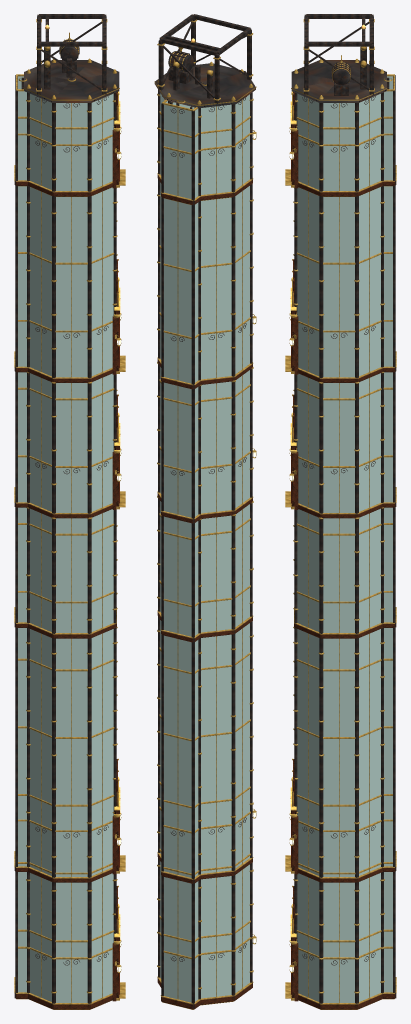
Rendered from sp_lift_shaft.glb.
The picture shows the model from 3 angles, left to right: view 1: azimuth 90°, elevation 25°; view 2: azimuth 150°, elevation 25°; view 3: azimuth 270°, elevation 25°; orthographic projection.
Visible parts, largest first — view 1: spire; view 2: spire; view 3: spire.
Boxes of the visible parts, x1,y1,x2,y2 form: spire: (14,14,125,1009); spire: (154,14,256,1009); spire: (285,14,396,1009).
Size of the model in its own units: 5.15 by 57.07 by 5.94.
15 materials, 11 textured.
